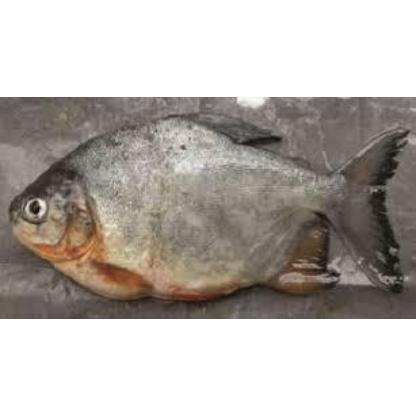ikan-pacu: (7, 107, 406, 301)
